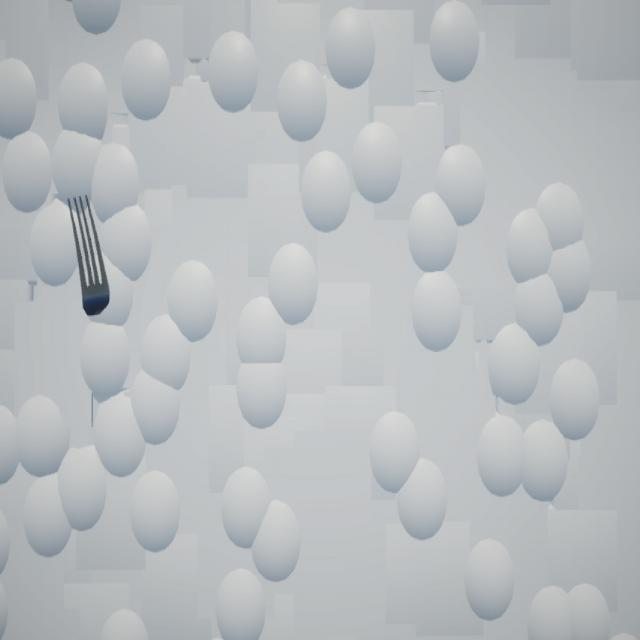top_folk: (69, 196, 111, 317)
